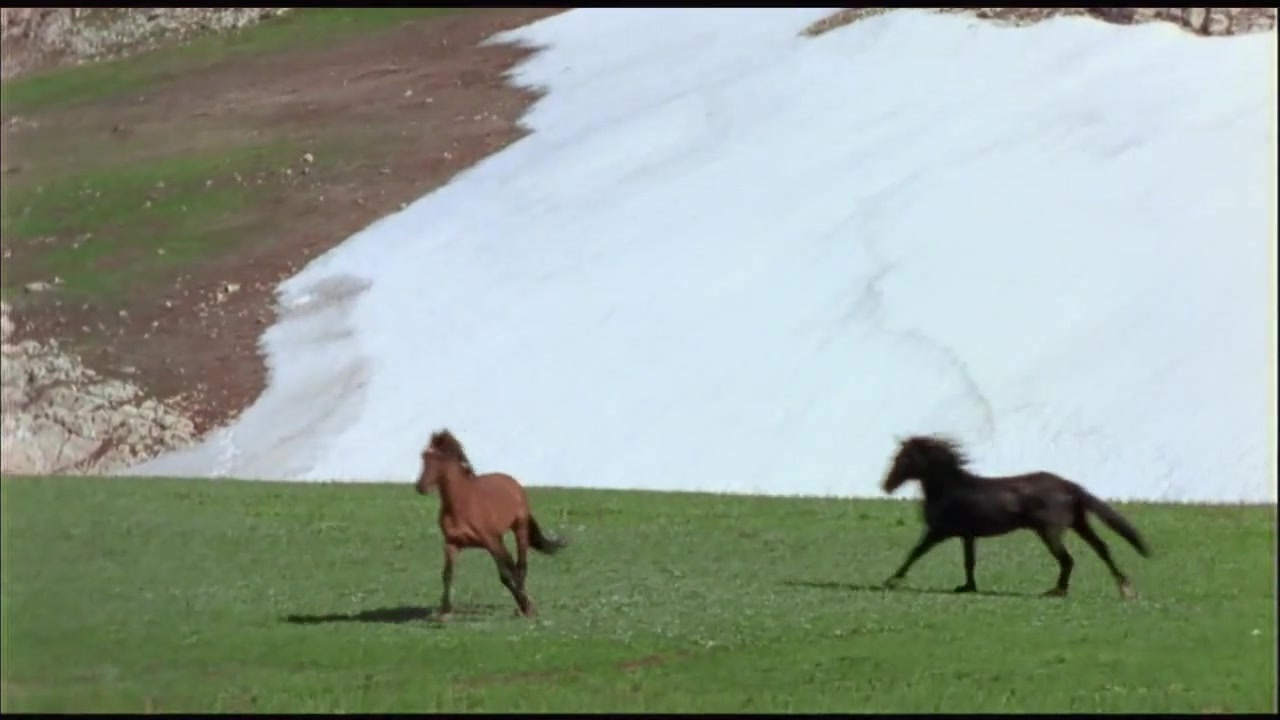horse: (880, 436, 1156, 605)
